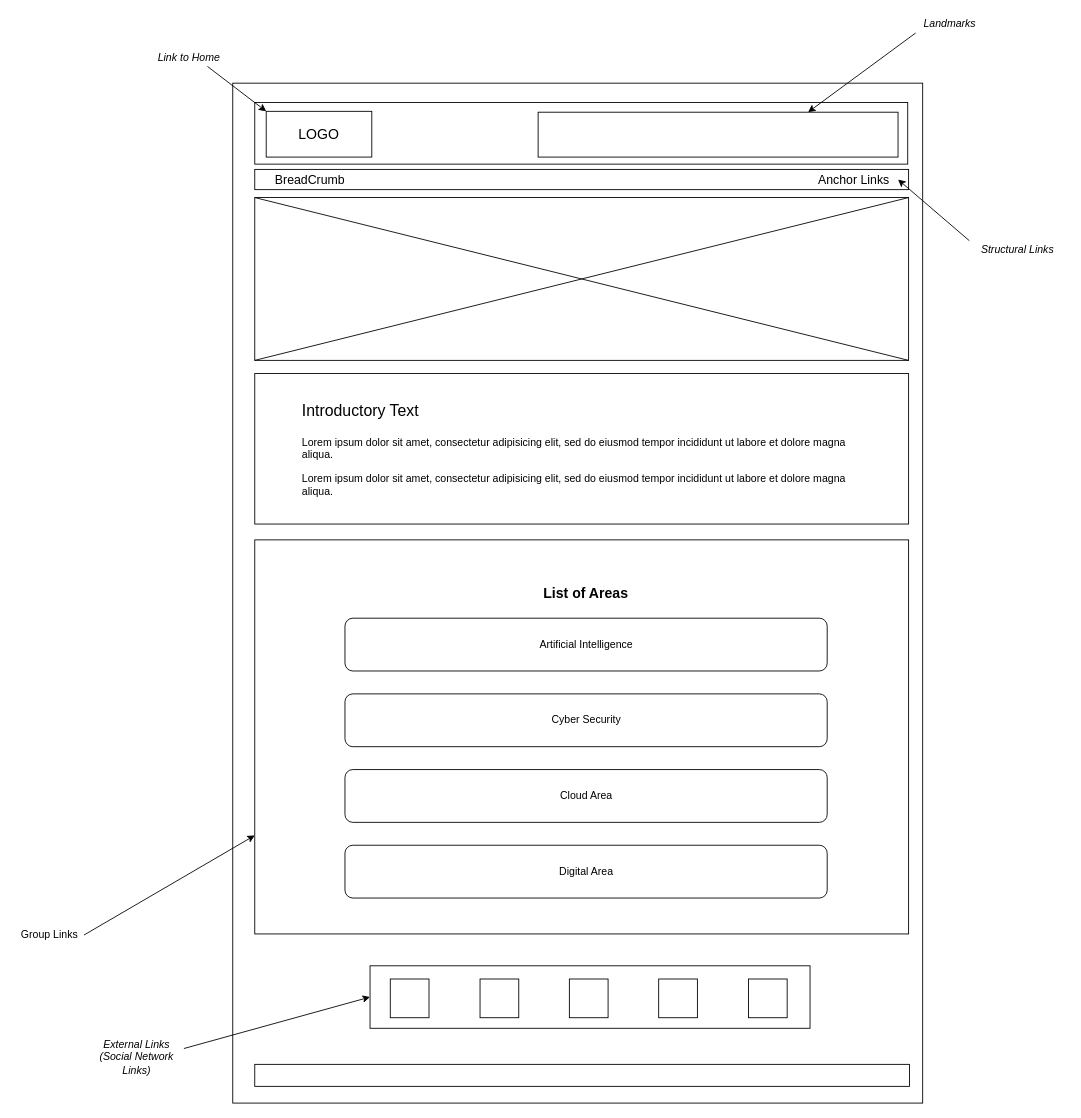
The diagram is 1081 pixels wide and 1118 high, and some of its shapes have lost their labels. Here are the shapes that lost their labels. From the top down, the centre of each, then its label:
At pixel 717 134: "About Us Areas Services Industries Our Team Contact Us".
At pixel 581 278: "ALL AREAS".
At pixel 581 1074: "Footer".
